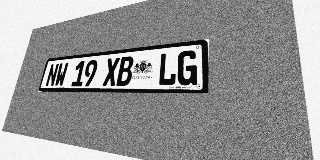1: (71, 61, 87, 86)
9: (82, 59, 98, 86)
B: (116, 56, 134, 86)
G: (176, 50, 198, 85)
L: (157, 52, 178, 86)
N: (45, 63, 59, 87)
W: (54, 62, 69, 87)
X: (102, 57, 120, 86)
